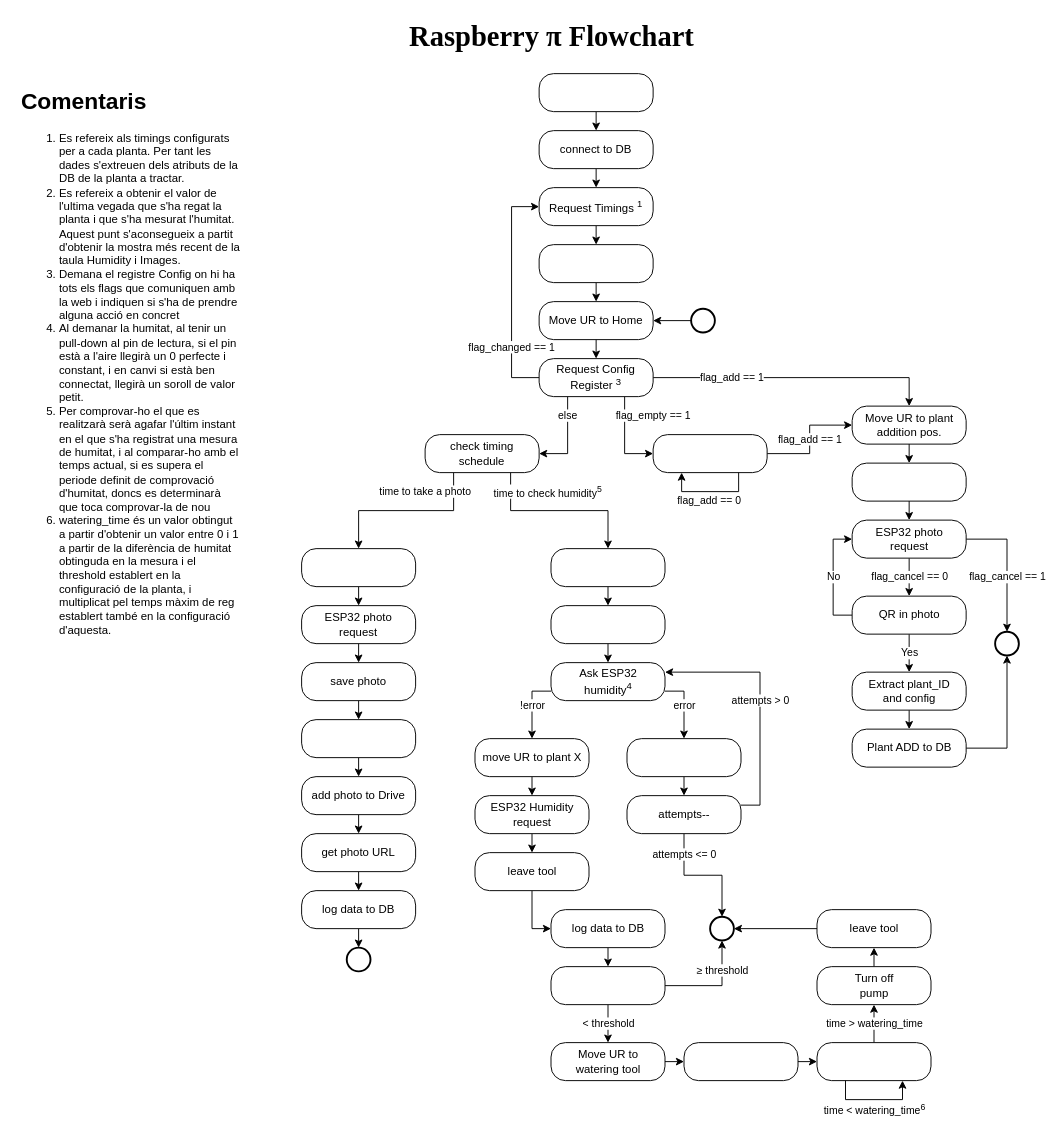
Image size: 1061x1132. Some labels were removed from this diagram. Each missing label, with the box of its shape:
attempts = 5: (550, 605, 665, 644)
compare humidity: (550, 966, 665, 1005)
extract height & colour: (301, 719, 416, 758)
flag_add = 0: (851, 462, 966, 501)
Init. config + wifi connection: (538, 73, 653, 112)
Move to plant X: (683, 1042, 798, 1081)
move UR to humidity tool: (550, 548, 665, 587)
move UR to photo position: (301, 548, 416, 587)
Request last timestamps 2: (538, 244, 653, 283)
retry connection: (626, 738, 741, 777)
Turn on pump: (816, 1042, 931, 1081)
Waiting for plant addition request: (652, 434, 767, 473)
